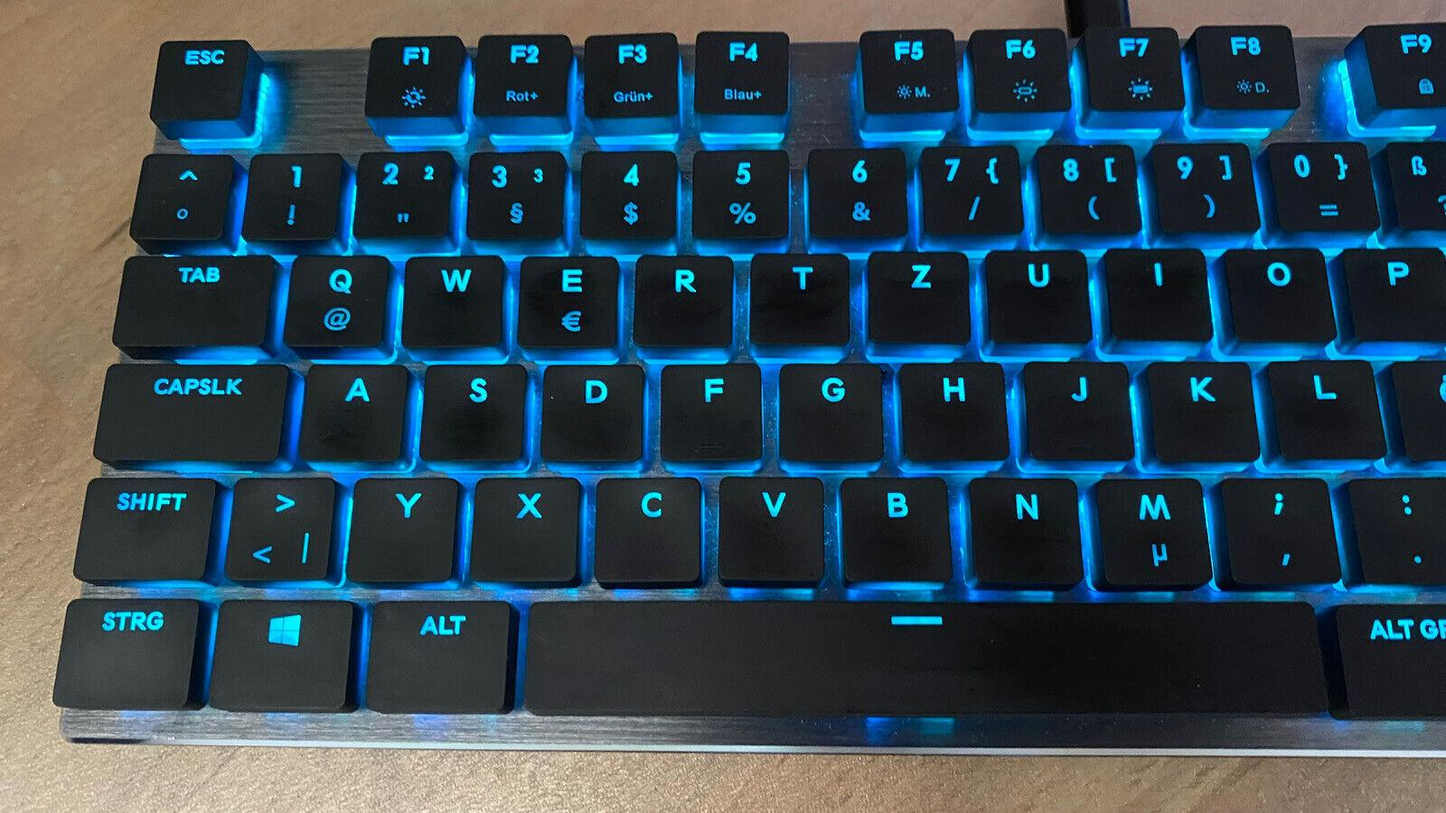0: (1262, 138, 1381, 238)
1: (240, 147, 343, 242)
2: (351, 146, 455, 244)
3: (463, 146, 568, 246)
4: (577, 146, 680, 244)
5: (689, 146, 793, 244)
6: (803, 142, 910, 244)
7: (915, 142, 1024, 241)
8: (1026, 139, 1145, 238)
9: (1141, 138, 1261, 238)
a: (297, 360, 408, 462)
alt-left: (361, 594, 515, 714)
altgr-right: (1341, 603, 1440, 715)
b: (834, 471, 954, 582)
c: (589, 470, 705, 584)
caret: (127, 148, 233, 243)
comma: (1216, 472, 1342, 586)
d: (536, 360, 645, 462)
e: (512, 253, 622, 351)
f: (658, 359, 763, 462)
g: (776, 359, 886, 463)
h: (895, 358, 1009, 462)
i: (1101, 244, 1214, 341)
j: (1020, 357, 1134, 462)
k: (1144, 357, 1261, 464)
keyboard: (54, 19, 1440, 756)
l: (1267, 356, 1387, 460)
less: (220, 472, 339, 582)
m: (1089, 472, 1213, 590)
n: (965, 472, 1084, 587)
o: (1217, 244, 1338, 342)
p: (1339, 245, 1445, 340)
point: (1346, 472, 1444, 584)
q: (279, 251, 392, 351)
r: (629, 253, 736, 350)
s: (417, 361, 529, 462)
shift-left: (69, 473, 219, 581)
shift-lock: (90, 359, 293, 463)
space: (502, 593, 1332, 714)
ss: (1388, 137, 1442, 232)
strg-left: (56, 594, 203, 709)
t: (746, 249, 850, 348)
tab: (109, 252, 277, 348)
u: (981, 245, 1094, 345)
v: (713, 470, 828, 585)
w: (399, 251, 506, 350)
x: (467, 472, 584, 583)
y: (343, 472, 458, 583)
z: (863, 247, 972, 346)
